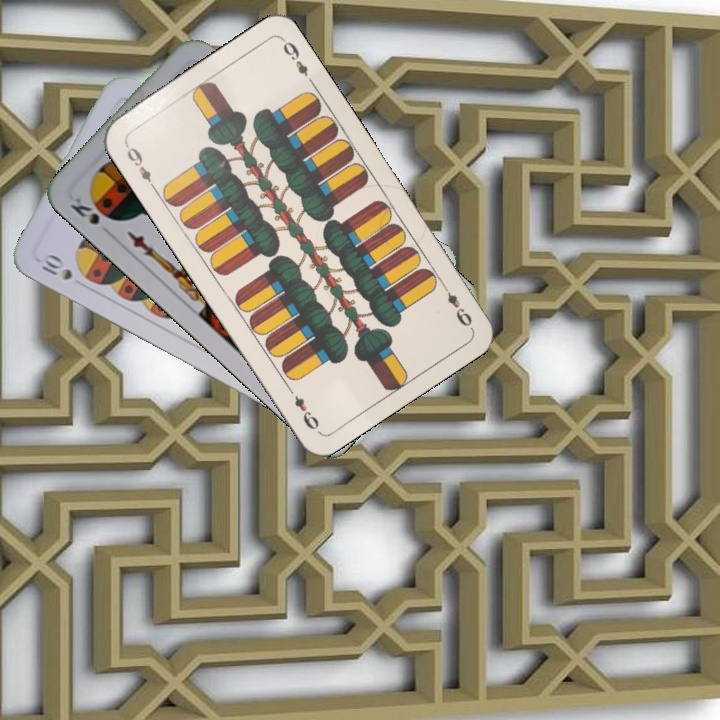E9: (121, 139, 159, 192), (437, 278, 475, 330)
S10: (37, 250, 75, 283)
SK: (66, 193, 102, 227)
